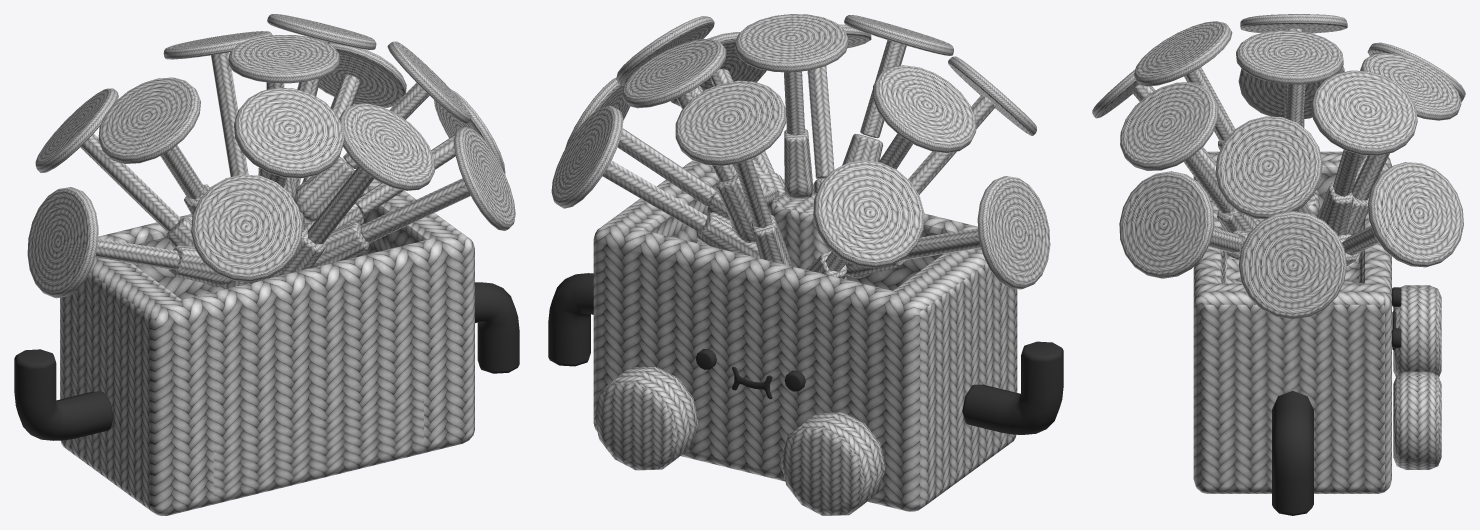
3 views of the same model, side by side, from view 1: azimuth 30°, elevation 25°; view 2: azimuth 150°, elevation 25°; view 3: azimuth 270°, elevation 25° (orthographic). The views are drawn at different scales.
Parts seen in each view (by area): view 1: LV1_33, LV1_13, LV1_34, LV1_5, LV1_1, LV1_16, LV1_12, LV1_40, LV1_23, LV1_20, polySurface64, LV1_29 (+23 smaller); view 2: LV1_33, LV1_6, LV1_34, LV1_5, LV1_37, LV1_42, LV1_41, LV1_4, LV1_40, LV1_23, polySurface64, LV1_1 (+25 smaller); view 3: LV1_5, LV1_9, LV1_31, LV1_45, LV1_26, LV1_48, LV1_20, polySurface65, LV1_29, LV1_41, LV1_42, LV1_12 (+20 smaller).
Part boxes in pixels (x1,y1,x2,y2): LV1_33: (60, 232, 213, 515); LV1_13: (200, 244, 423, 371); LV1_34: (176, 284, 423, 444); LV1_5: (355, 179, 474, 453); LV1_1: (210, 393, 423, 505); LV1_16: (191, 174, 302, 282); LV1_12: (234, 87, 344, 178); LV1_40: (98, 77, 200, 163); LV1_23: (27, 187, 98, 298); LV1_20: (339, 103, 434, 190); polySurface64: (14, 349, 113, 440); LV1_29: (228, 35, 339, 83); LV1_33: (860, 222, 1017, 511); LV1_6: (646, 234, 874, 364); LV1_34: (646, 275, 897, 424); LV1_5: (593, 160, 719, 430); LV1_37: (813, 160, 924, 268); LV1_42: (780, 412, 885, 515); LV1_41: (593, 367, 698, 470); LV1_4: (675, 80, 786, 165); LV1_40: (873, 65, 976, 153); LV1_23: (977, 176, 1050, 289); polySurface64: (962, 341, 1063, 434); LV1_1: (681, 398, 801, 481); LV1_5: (1193, 272, 1391, 493); LV1_9: (1238, 211, 1346, 319); LV1_31: (1215, 116, 1322, 219); LV1_45: (1119, 171, 1214, 278); LV1_26: (1368, 162, 1463, 267); LV1_48: (1311, 70, 1417, 155); LV1_20: (1120, 82, 1218, 170); polySurface65: (1272, 391, 1313, 515); LV1_29: (1236, 30, 1343, 84); LV1_41: (1393, 371, 1441, 469); LV1_42: (1393, 285, 1441, 376); LV1_12: (1134, 21, 1232, 86).
Size of the model in its own units: 649 by 486 by 433.
